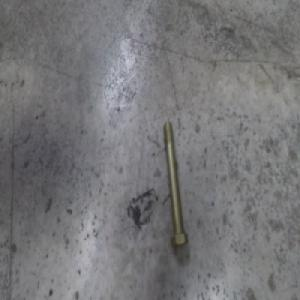Bolt: (163, 116, 190, 245)
